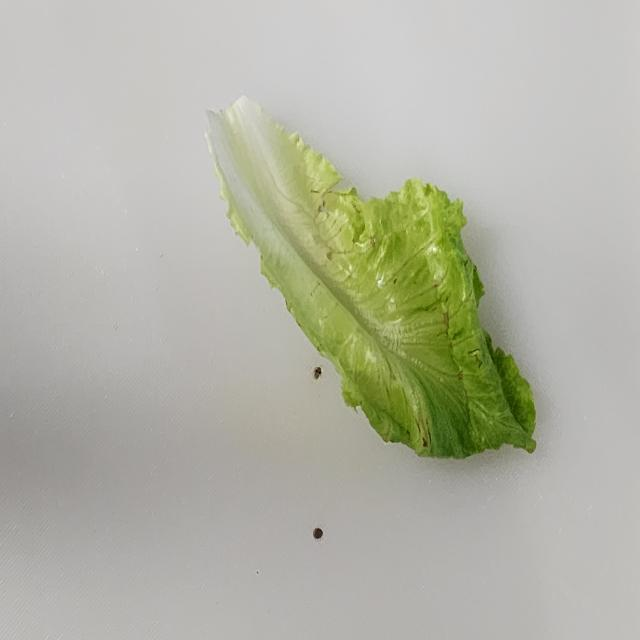lettuce: (203, 94, 538, 460)
